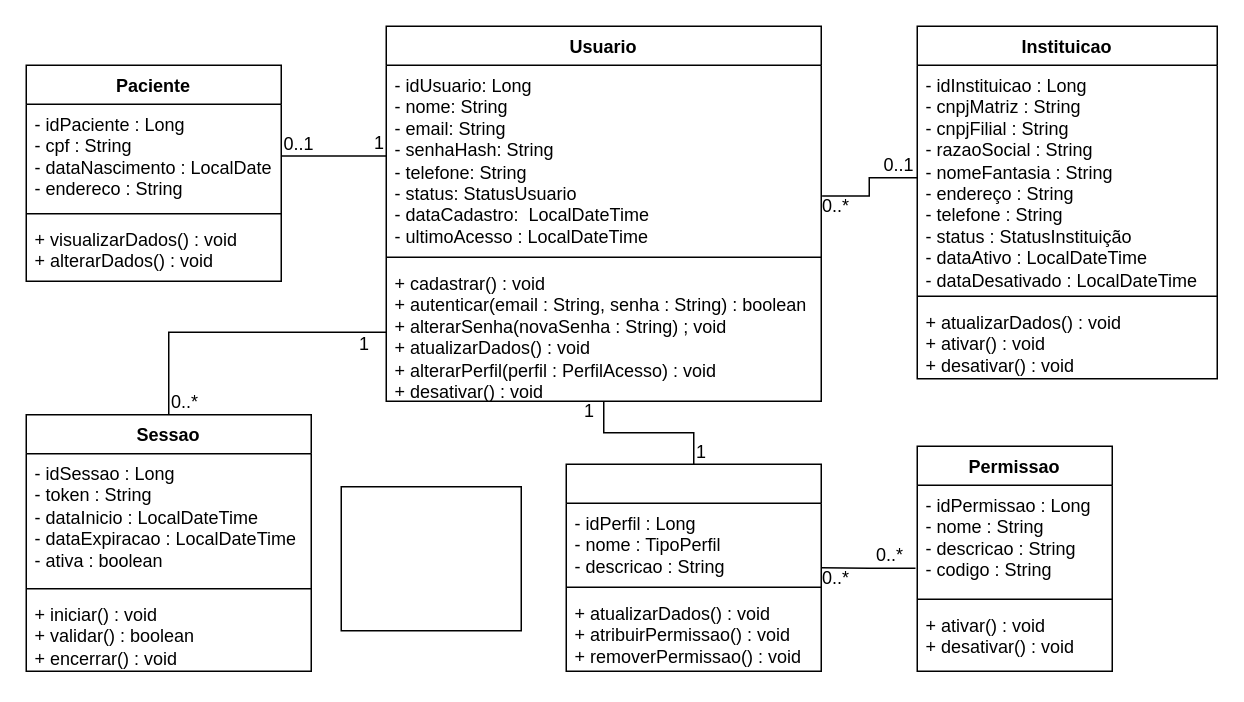
Image size: 1244x702. Some labels were removed from this diagram. The box of each missing label's shape, as (x1, y1, x2, y2) in pixels:
<<enumeration>> TipoPerfil PACIENTE ADM_INSTITUICAO ADM_SISTEMA: (340, 485, 521, 631)
PerfilAcesso: (565, 463, 821, 671)
